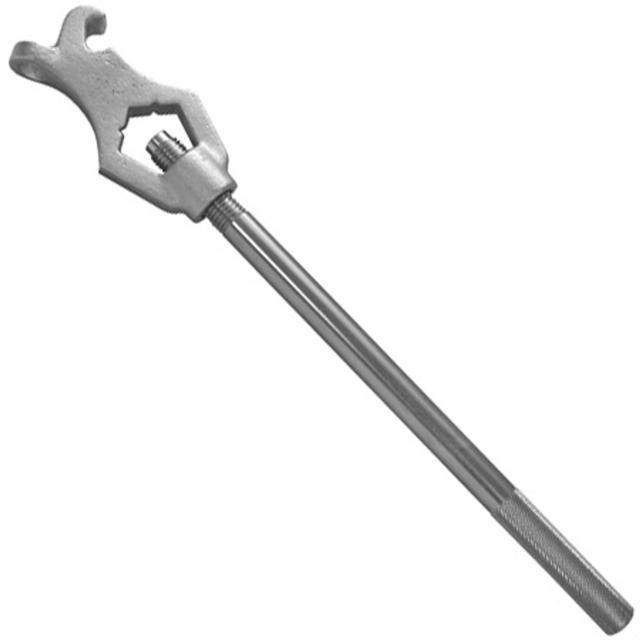wrench: (5, 5, 639, 636)
